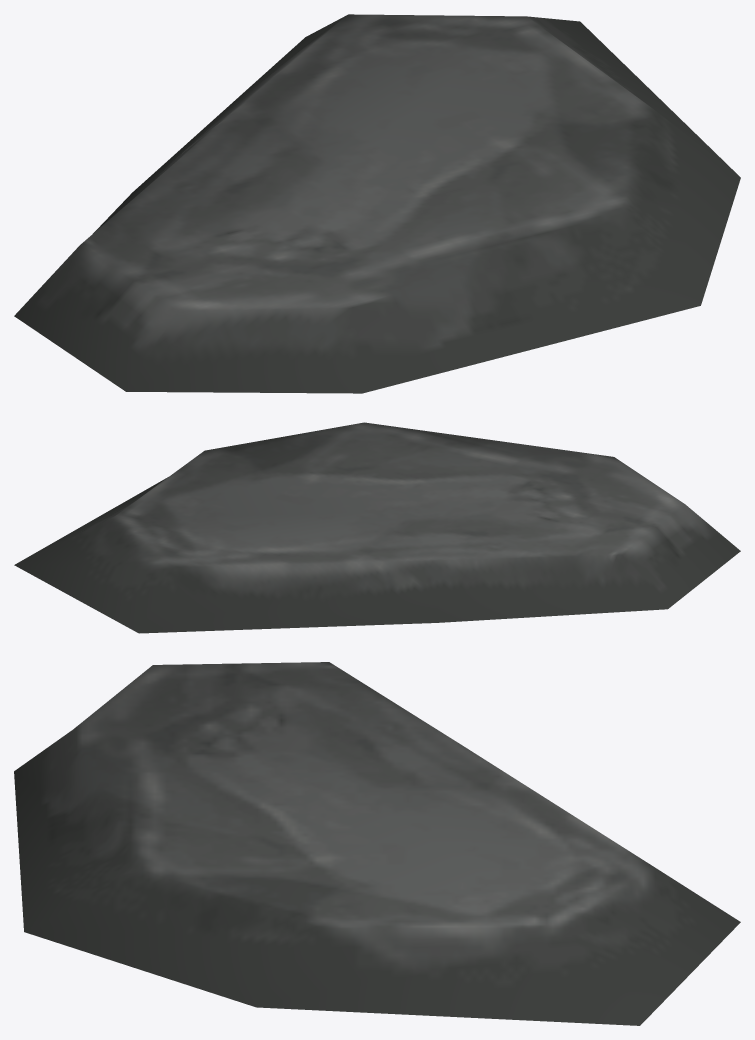
Rendered from yw_zhaoze_stones_005.FBX.
3 renders of one model, top to bottom at view 1: azimuth 30°, elevation 25°; view 2: azimuth 150°, elevation 25°; view 3: azimuth 270°, elevation 25°, orthographic. The views are drawn at different scales.
Parts seen in each view (by area): view 1: yw_zhaoze_stones_005; view 2: yw_zhaoze_stones_005; view 3: yw_zhaoze_stones_005.
Part boxes in pixels (x1,y1,x2,y2): yw_zhaoze_stones_005: [14, 14, 740, 393]; yw_zhaoze_stones_005: [14, 422, 740, 633]; yw_zhaoze_stones_005: [14, 662, 740, 1025].
Bounding box in the file's own units: 401 × 362 × 29.77.
